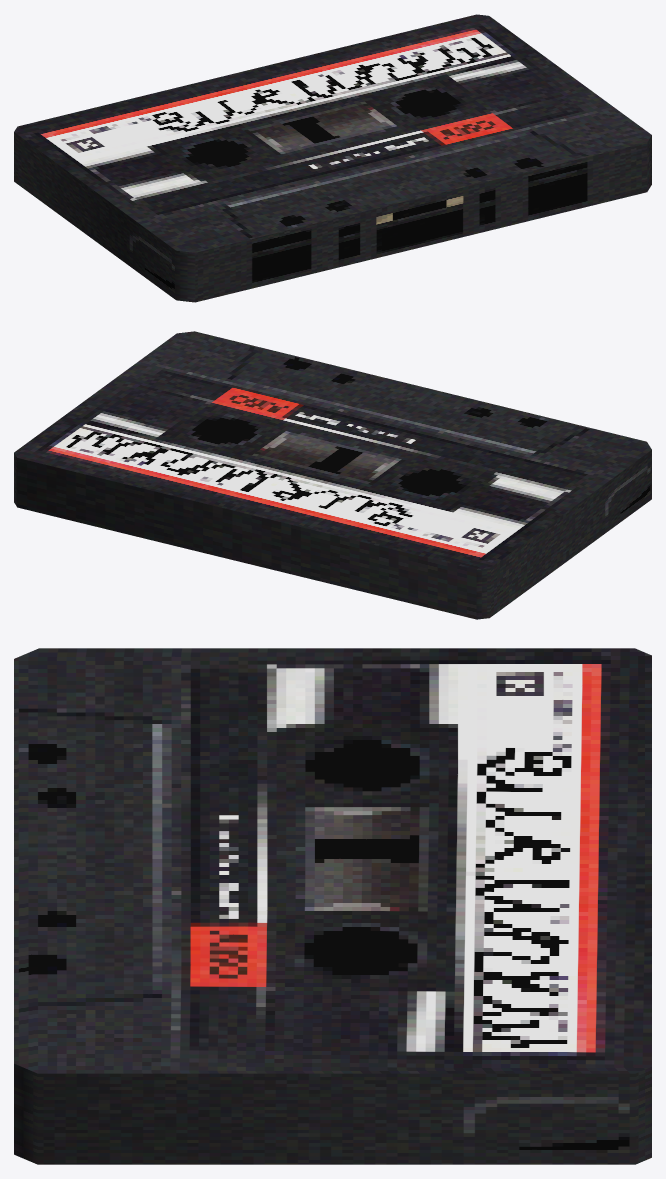
Rendered from CasetteTape.glb.
3 renders of one model, top to bottom at view 1: azimuth 30°, elevation 25°; view 2: azimuth 150°, elevation 25°; view 3: azimuth 270°, elevation 25°, orthographic. The views are drawn at different scales.
Parts seen in each view (by area): view 1: Cube; view 2: Cube; view 3: Cube.
Boxes of the visible parts, x1,y1,x2,y2 form: Cube: [14, 14, 651, 302]; Cube: [14, 331, 651, 619]; Cube: [14, 648, 651, 1164].
Size of the model in its own units: 0.4293 by 0.0428 by 0.272.
1 material, 1 textured.
